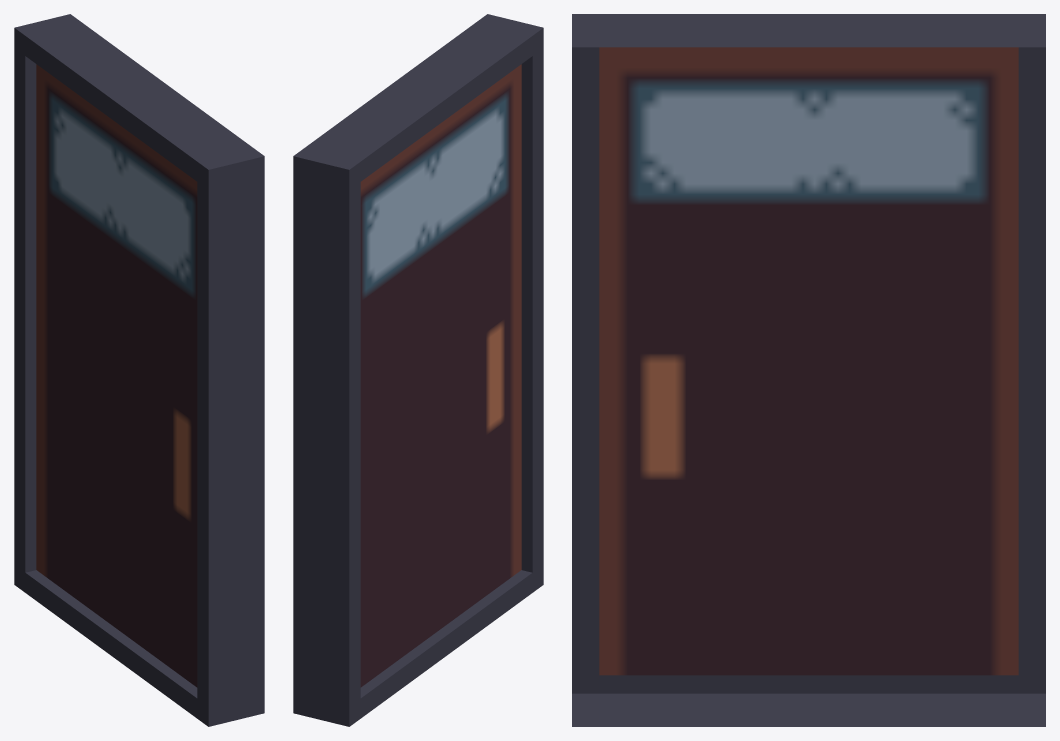
The model's file is Porta.fbx.
3 renders of one model, left to right at view 1: azimuth 30°, elevation 25°; view 2: azimuth 150°, elevation 25°; view 3: azimuth 270°, elevation 25°, orthographic. The views are drawn at different scales.
Visible parts, largest first — view 1: Porta; view 2: Porta; view 3: Porta.
Boxes of the visible parts, <box> form: Porta: <box>14,14,264,726</box>; Porta: <box>293,14,543,726</box>; Porta: <box>572,14,1045,726</box>.
Bounding box in the file's own units: 29.57 × 280 × 177.
